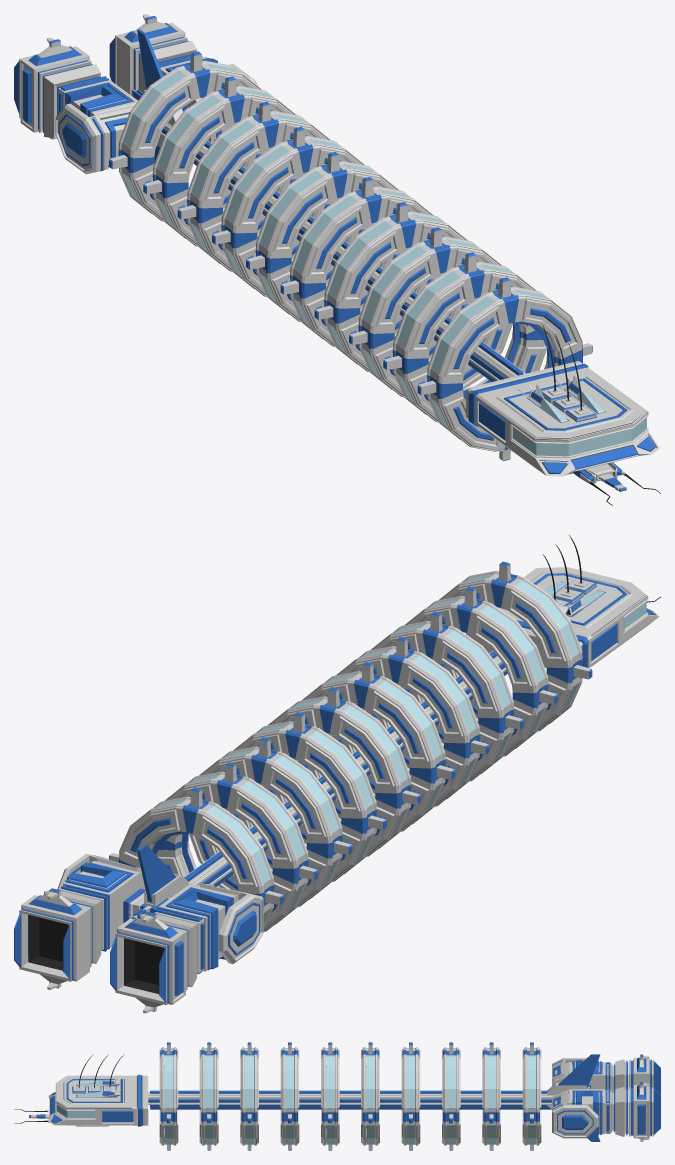
Rendered from mothership-draco.glb.
The picture shows the model from 3 angles, top to bottom: view 1: azimuth 30°, elevation 25°; view 2: azimuth 150°, elevation 25°; view 3: azimuth 270°, elevation 25°; orthographic projection. The views are drawn at different scales.
Visible parts, largest first — view 1: Object_4, Object_3, Object_11, Object_2, Object_10, Object_12, Object_5; view 2: Object_4, Object_3, Object_11, Object_10, Object_2, Object_6, Object_12, Object_5; view 3: Object_4, Object_3, Object_10, Object_2, Object_11, Object_5, Object_12.
Part boxes in pixels (bbox=[...]): Object_4: bbox=[110, 54, 591, 460]; Object_3: bbox=[19, 14, 659, 490]; Object_11: bbox=[109, 51, 592, 460]; Object_2: bbox=[122, 63, 646, 456]; Object_10: bbox=[14, 16, 596, 422]; Object_12: bbox=[468, 363, 655, 491]; Object_5: bbox=[160, 123, 525, 380]; Object_4: bbox=[109, 564, 591, 959]; Object_3: bbox=[19, 567, 659, 1013]; Object_11: bbox=[109, 561, 592, 911]; Object_10: bbox=[14, 578, 596, 1011]; Object_2: bbox=[155, 574, 646, 922]; Object_6: bbox=[28, 596, 660, 993]; Object_12: bbox=[516, 573, 655, 667]; Object_5: bbox=[184, 650, 506, 884]; Object_4: bbox=[159, 1043, 541, 1149]; Object_3: bbox=[31, 1056, 653, 1141]; Object_10: bbox=[72, 1054, 660, 1141]; Object_2: bbox=[56, 1048, 535, 1144]; Object_11: bbox=[160, 1042, 539, 1150]; Object_5: bbox=[148, 1091, 554, 1104]; Object_12: bbox=[29, 1074, 143, 1126].
Size of the model in its own units: 3.07 by 3.05 by 16.82.
